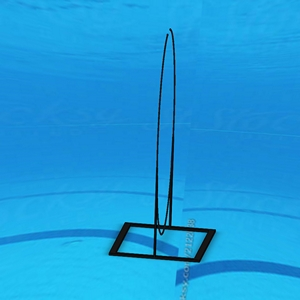circle: (108, 27, 222, 269)
